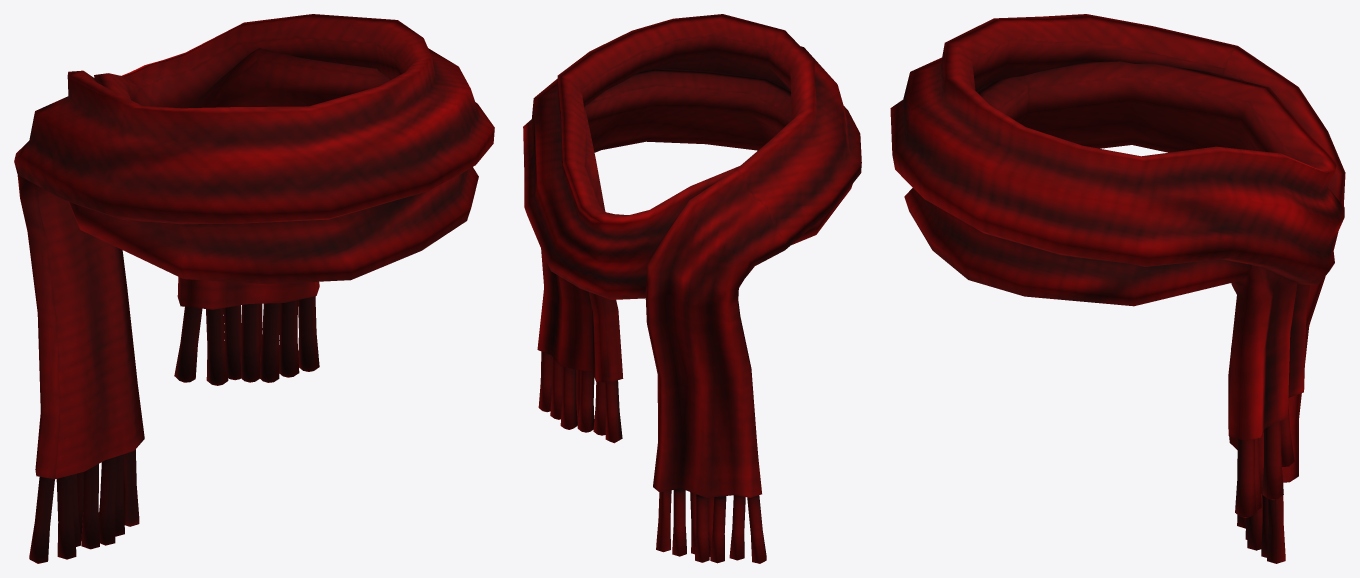
Rendered from Crimson Winter Scarf.obj.
The picture shows the model from 3 angles, left to right: view 1: azimuth 30°, elevation 25°; view 2: azimuth 150°, elevation 25°; view 3: azimuth 270°, elevation 25°; orthographic projection. The views are drawn at different scales.
Visible parts, largest first — view 1: Handle1; view 2: Handle1; view 3: Handle1.
Boxes of the visible parts, x1,y1,x2,y2 form: Handle1: (14,14,494,563); Handle1: (523,14,861,563); Handle1: (890,14,1345,563).
Bounding box in the file's own units: 1.69 × 2.25 × 1.74.
1 material, 1 textured.
